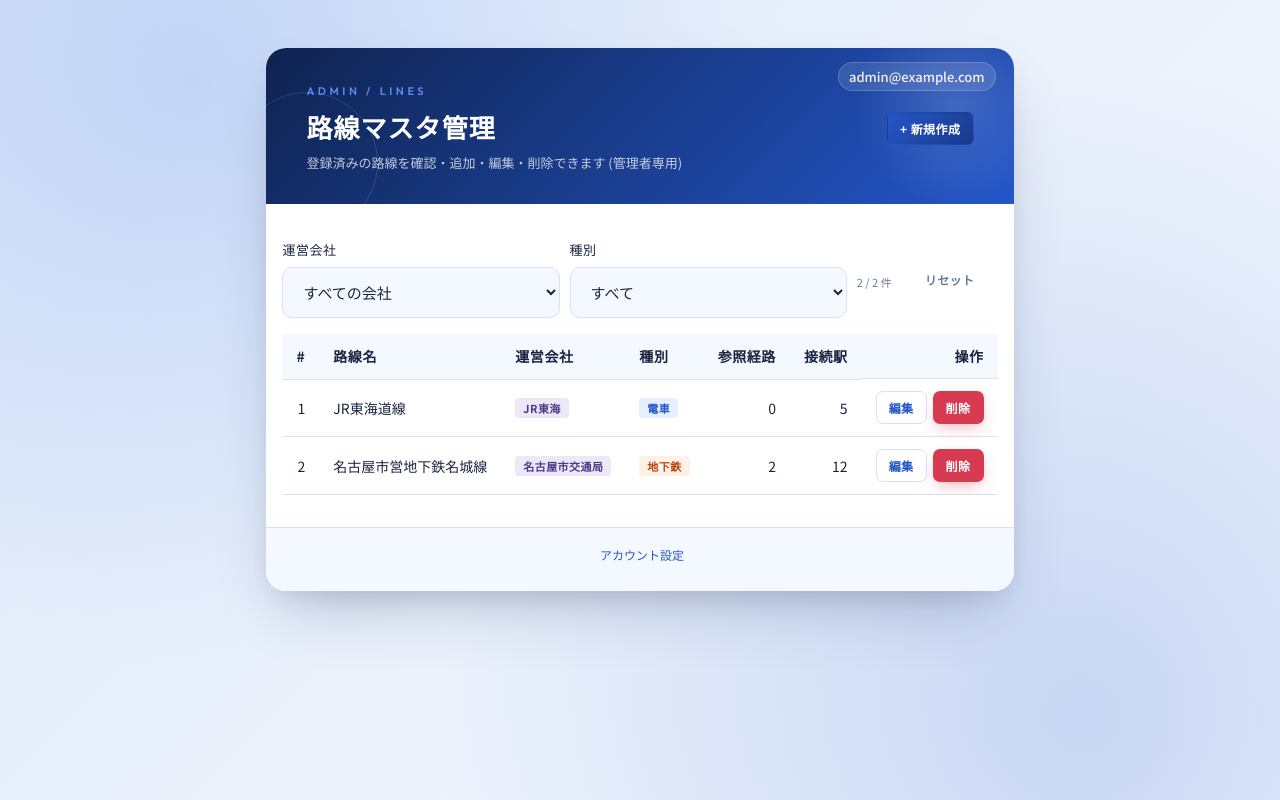
Scenario: AdminLines › US-034 / US-050 フィルタ持続化 (sessionStorage) › US-051 / US-053: リセットボタンで運営会社+種別が全て初期化される
This screenshot has width=1280, height=800.
Expected: the text "JR東海道線" is shown, [319,379,501,436]
Select "地下鉄" in the dropdown labelled "種別" at [708, 292], box [570,267,847,318]
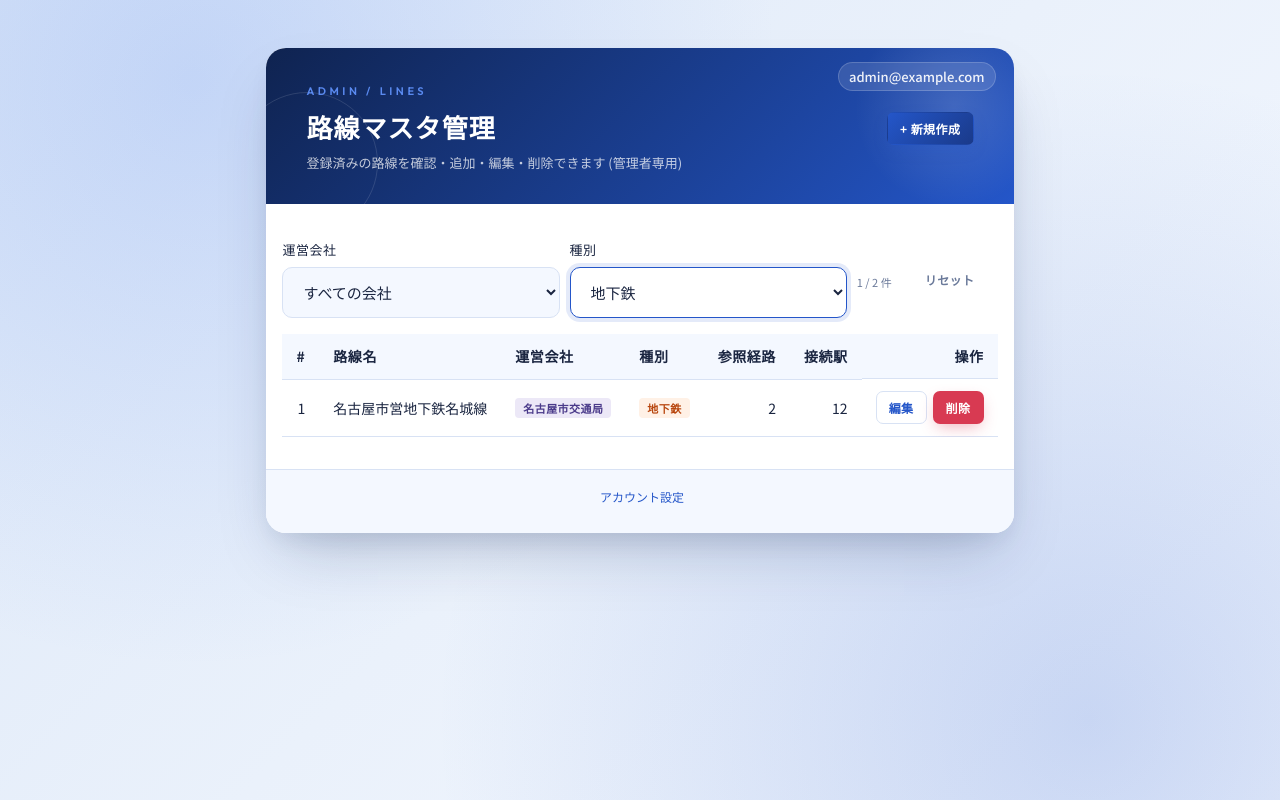
Expected: the dropdown labelled "運営会社" shows "すべての会社", [282,267,560,318]
リセットボタンを押す
Click the button with aria-label "フィルタをリセット" at [950, 279], box [902,256,998,302]
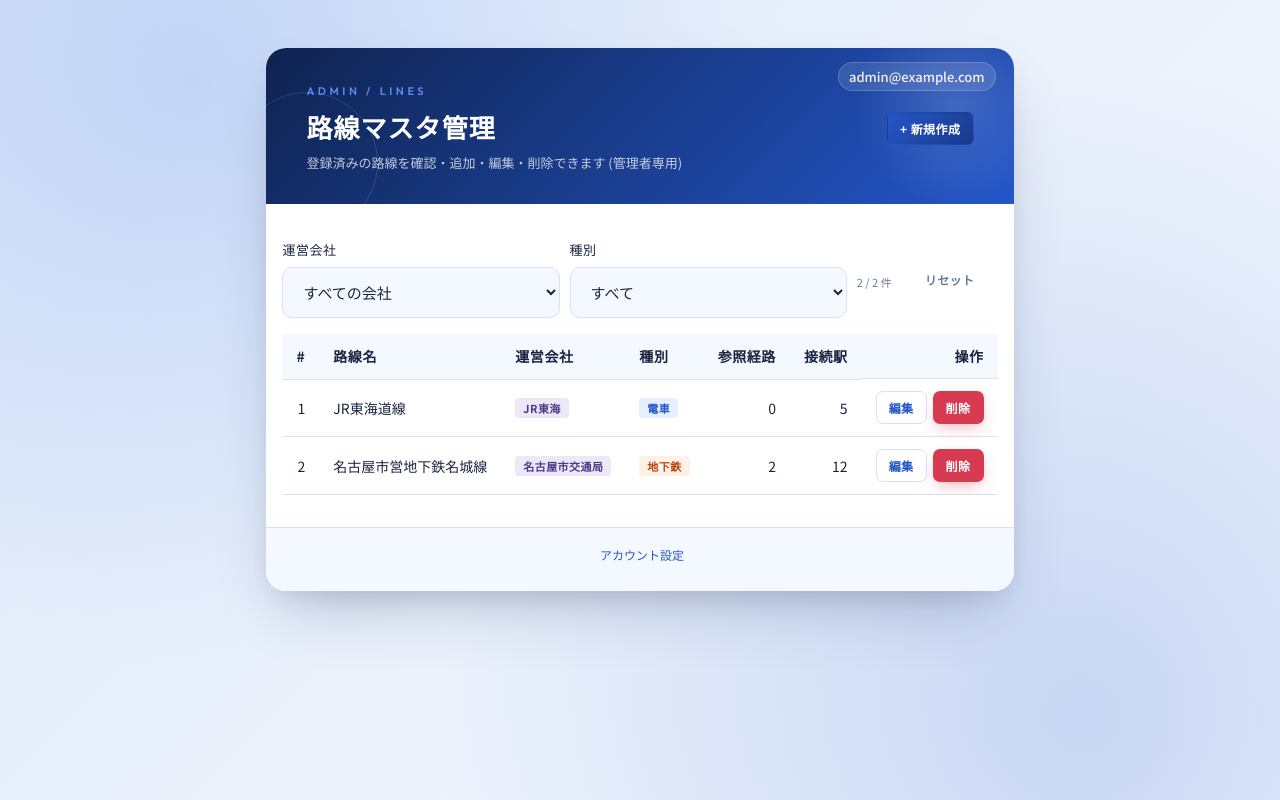
Expected: the dropdown labelled "運営会社" shows "すべての会社", [282,267,560,318]
Now the text "JR東海道線" is shown, box [319,379,501,436]
